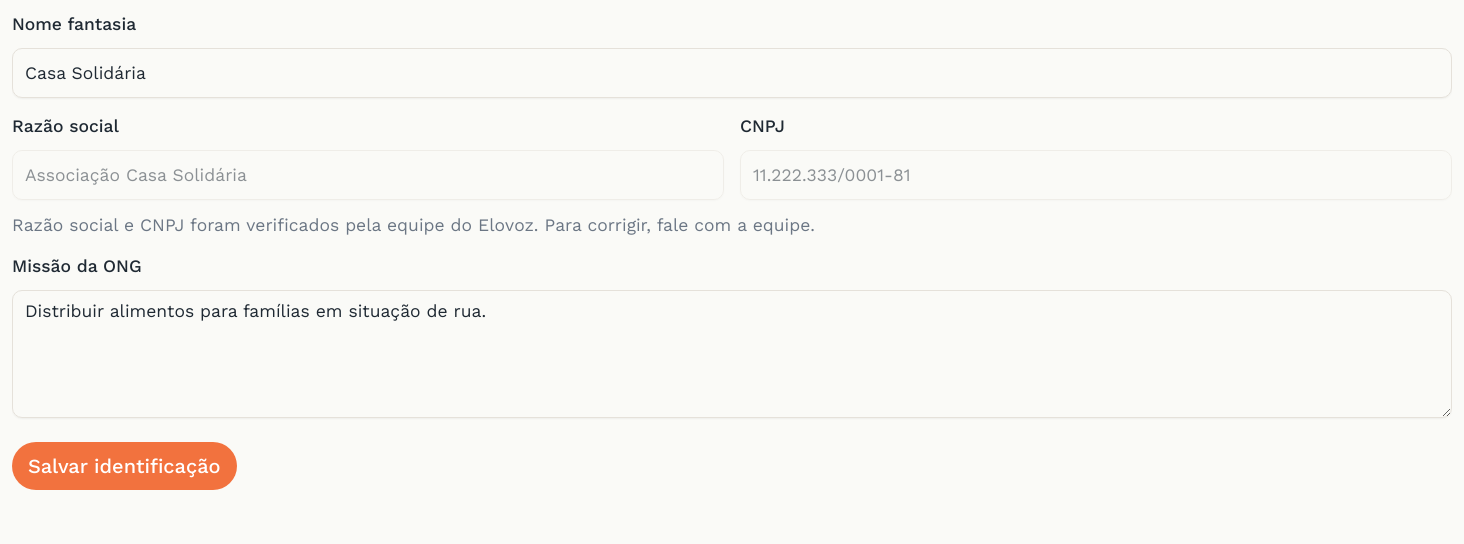
Test case: OngIdentityForm › não salva com missão curta
Replace the text in the text box labelled "Missão da ONG" with "Ajudar" at (732, 354), box [12,290,1452,418]
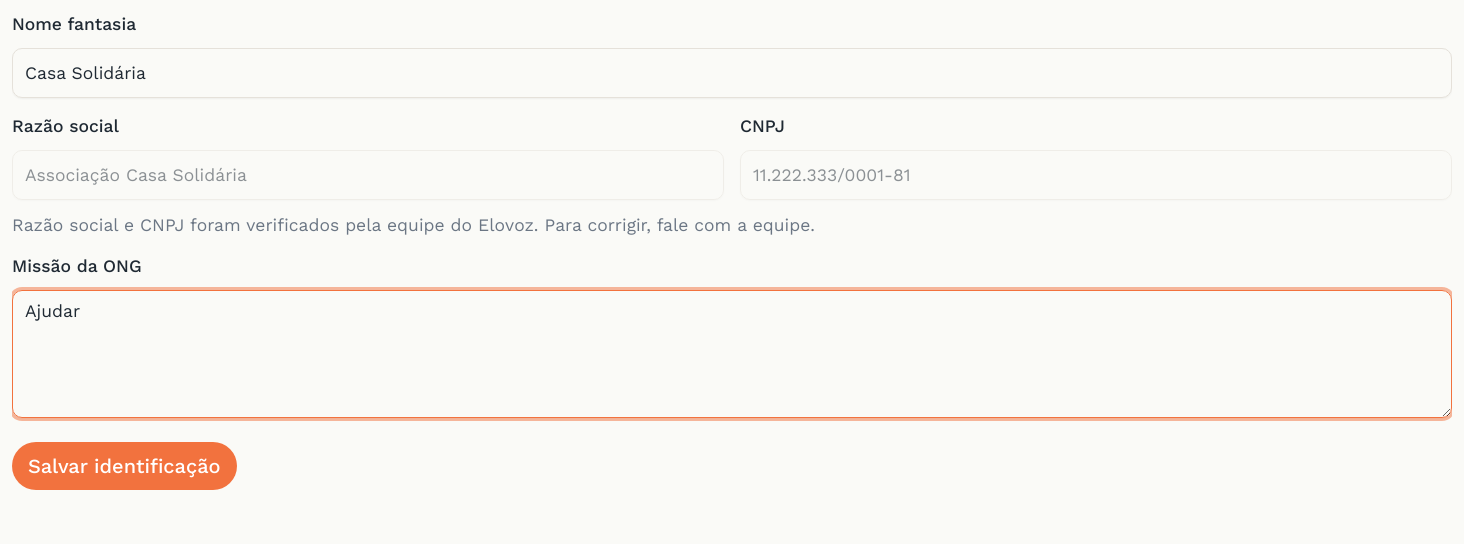
Click the button "Salvar identificação" at (124, 466), box [12,442,237,490]
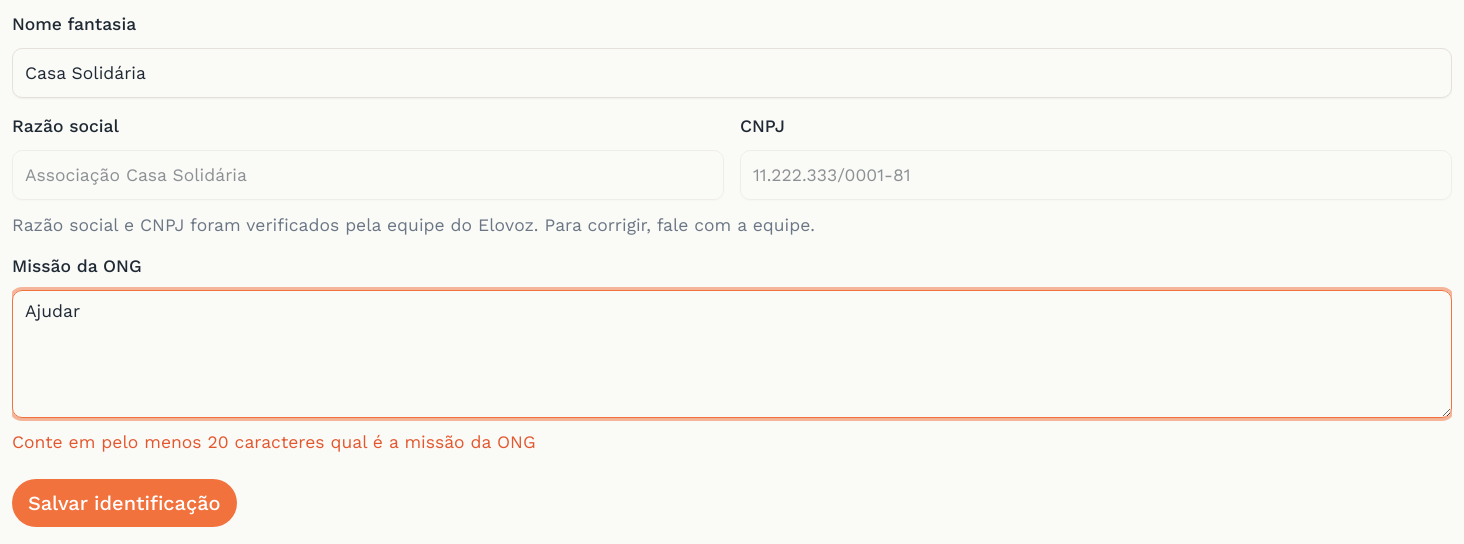
expect the text "Conte em pelo menos 20 caracteres qual é a missão da ONG" is shown: met, box [12,432,536,452]
